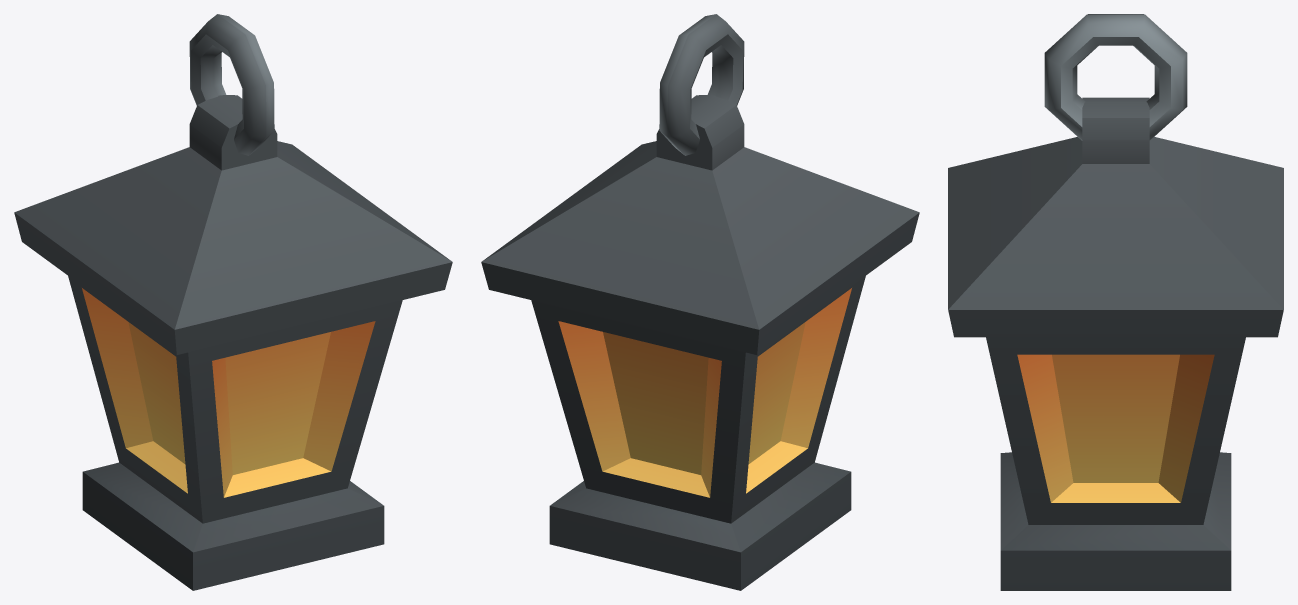
Rendered from Lantern.fbx.
3 renders of one model, left to right at view 1: azimuth 30°, elevation 25°; view 2: azimuth 150°, elevation 25°; view 3: azimuth 270°, elevation 25°, orthographic. The views are drawn at different scales.
Parts seen in each view (by area): view 1: lantern_standing; view 2: lantern_standing; view 3: lantern_standing.
Boxes of the visible parts, x1=… form: lantern_standing: x1=14, y1=14, x2=452, y2=590; lantern_standing: x1=481, y1=14, x2=919, y2=590; lantern_standing: x1=948, y1=14, x2=1283, y2=590.
Size of the model in its own units: 64 by 111 by 64.
